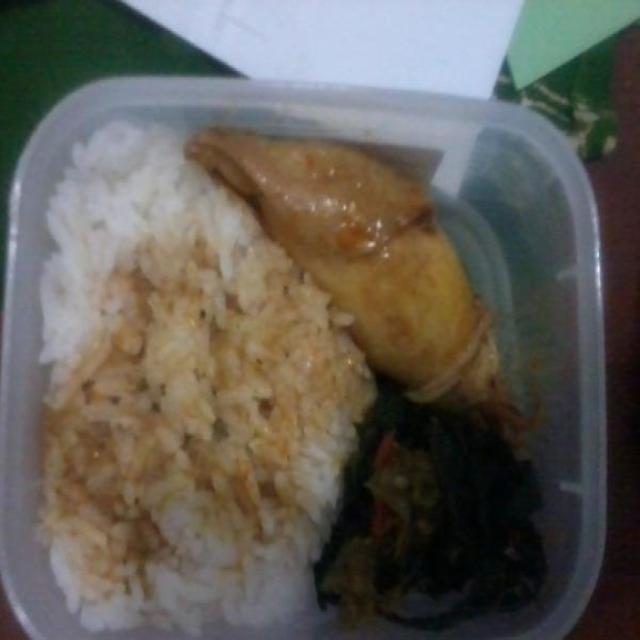米饭主食: (16, 37, 601, 610)
